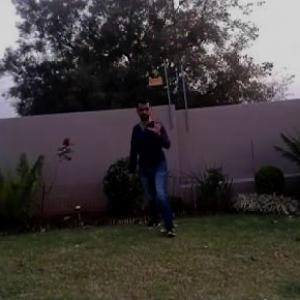follow_hand: (147, 112, 167, 138)
